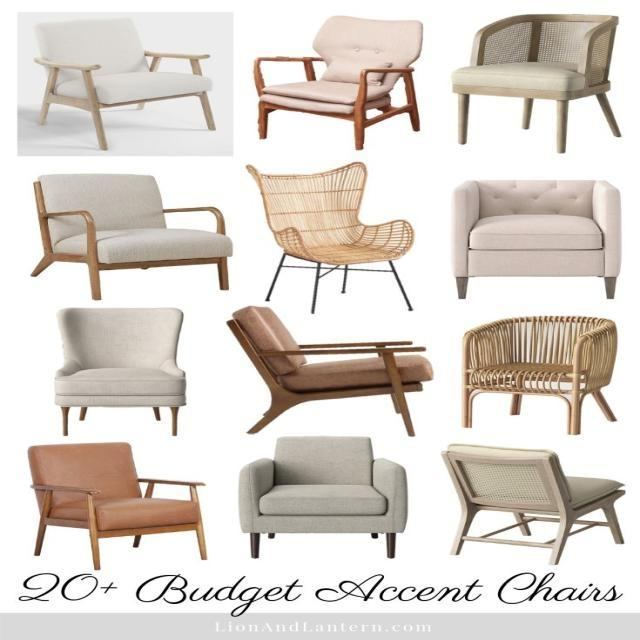obstacle: (226, 306, 434, 436), (30, 172, 234, 300), (245, 160, 414, 314), (31, 17, 216, 150), (451, 13, 622, 154), (27, 441, 207, 570), (253, 14, 423, 150), (440, 442, 626, 566), (450, 179, 622, 300), (238, 436, 408, 558), (459, 314, 618, 434), (53, 306, 186, 436)
